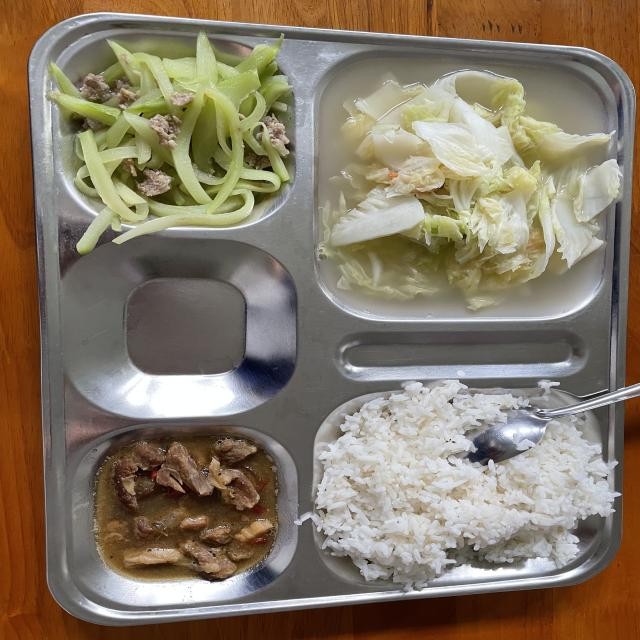bap cai xao: (317, 70, 621, 311)
bo xao: (110, 438, 277, 547), (123, 541, 254, 580)
com: (313, 380, 619, 590)
rau: (46, 30, 291, 254)
